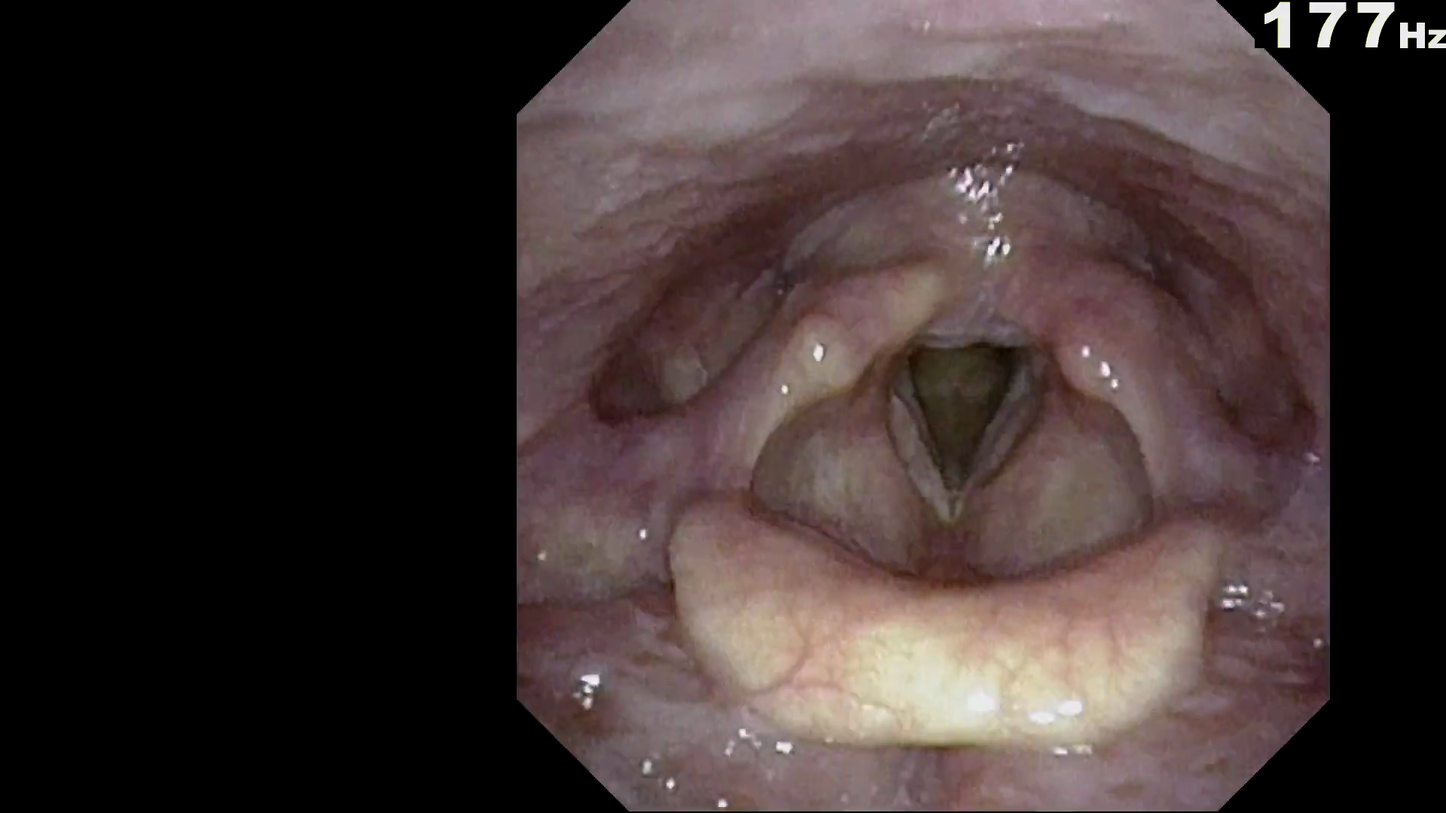epiglottis: (662, 433, 1226, 694)
trachea: (866, 297, 1041, 508)
